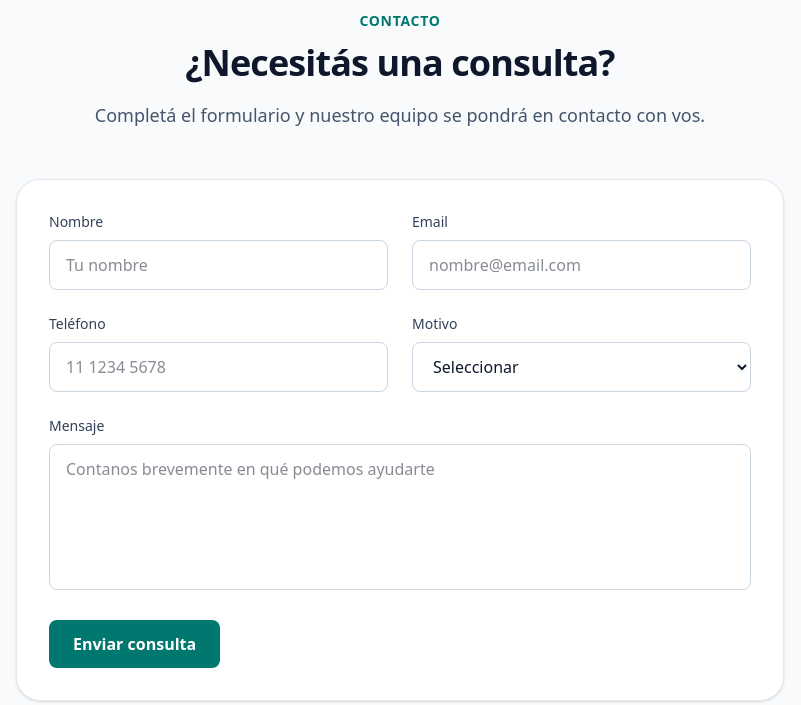
Scenario: Contact › shows validation errors when submitting an empty form
Click the button "Enviar consulta" at (135, 644), box [49, 620, 220, 668]
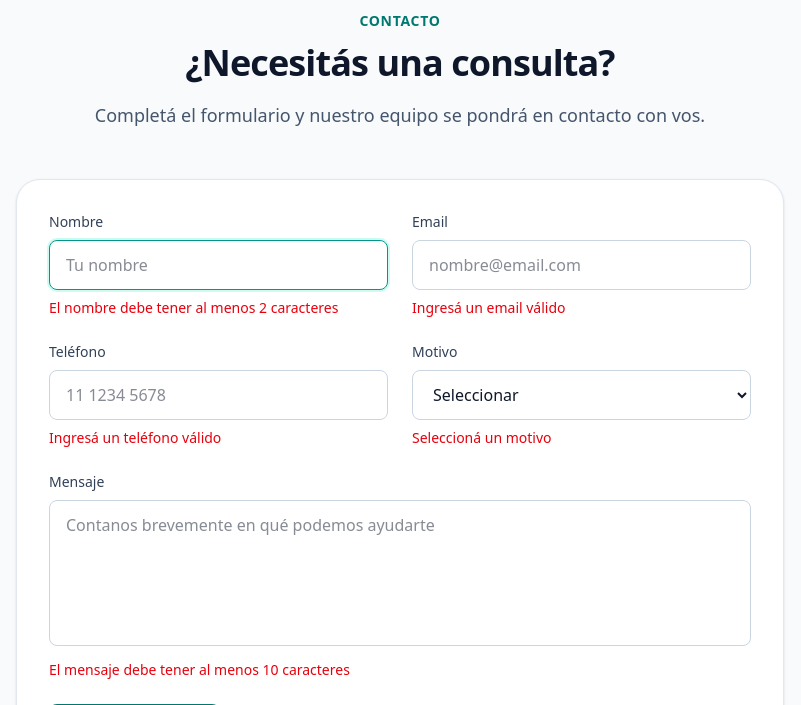
Expected: the text "El nombre debe tener al menos 2 caracteres" is shown, [49, 298, 388, 318]
Expected: the text "Ingresá un email válido" is shown, [412, 298, 566, 317]
Expected: the text "Ingresá un teléfono válido" is shown, [49, 428, 221, 447]
